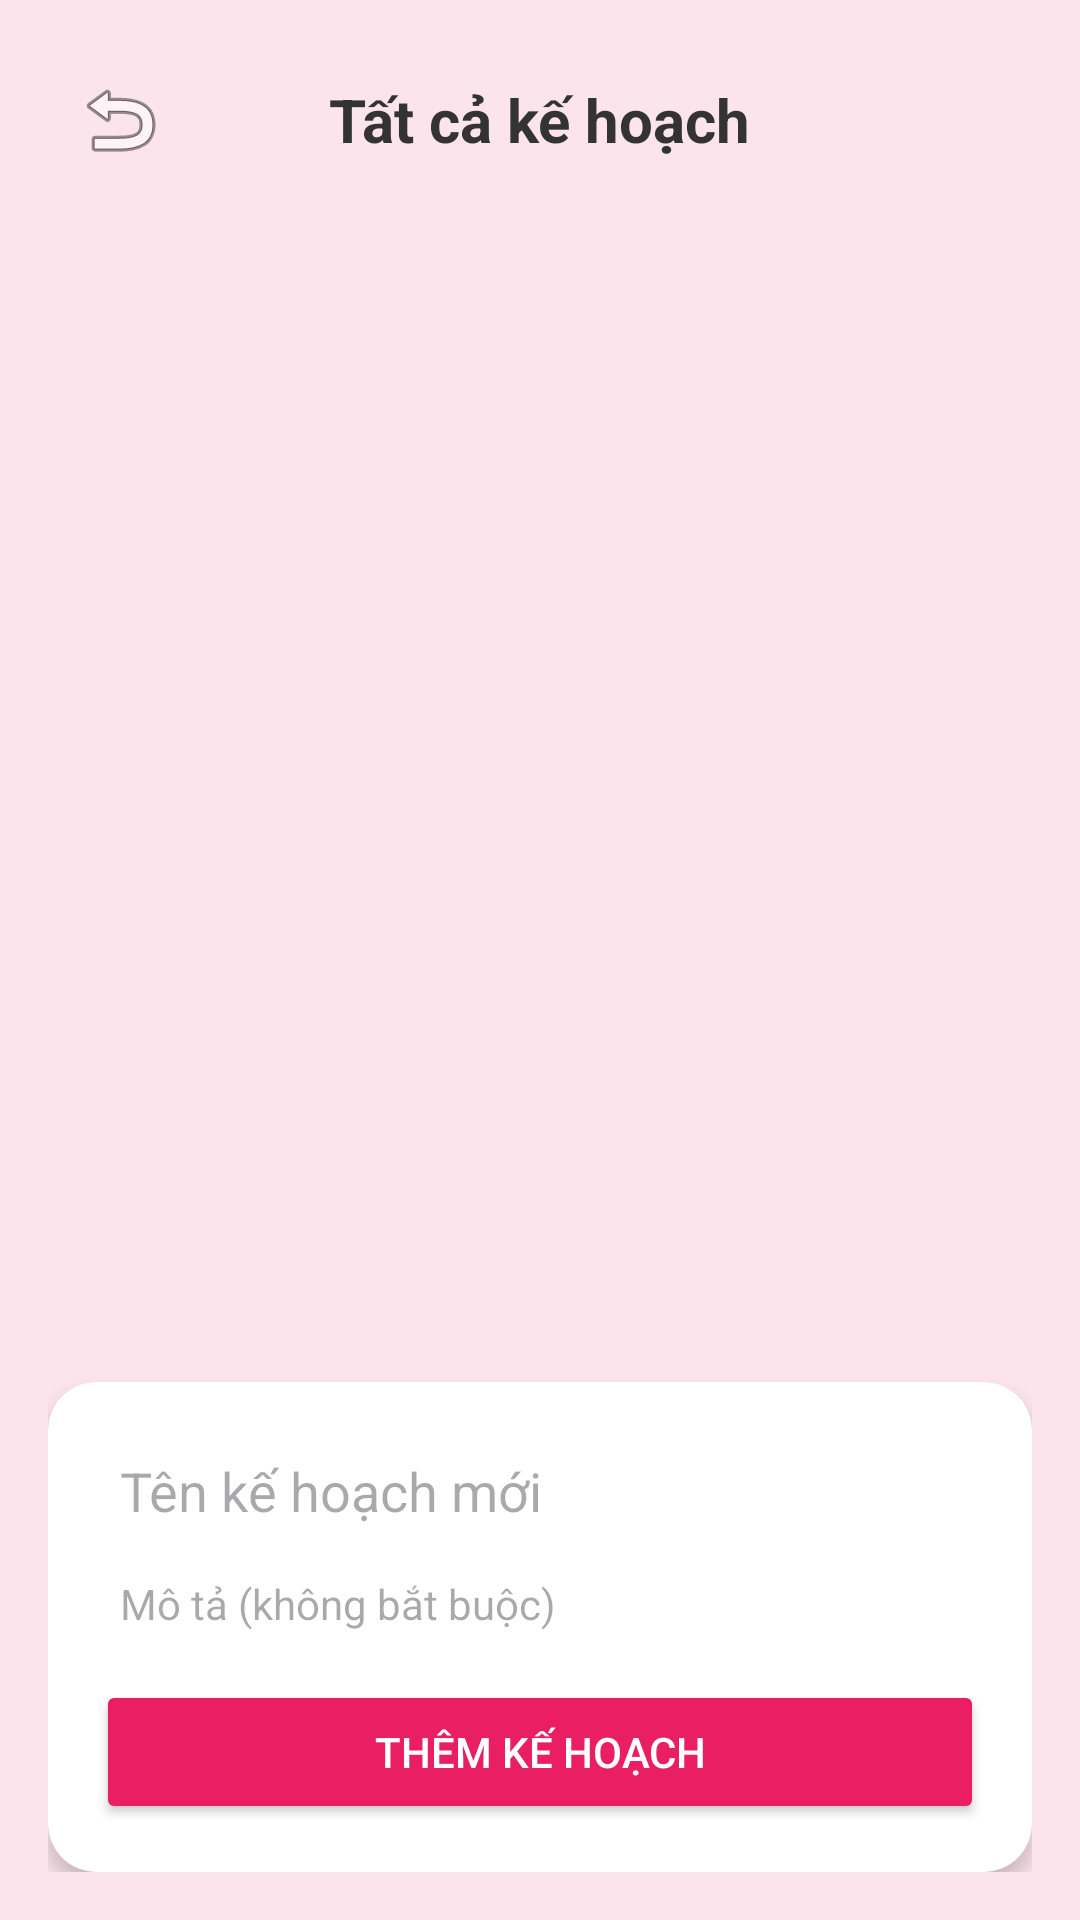

Named icons in this screenshot (1080px×1920px) and their centers, (x,y):
Quay lại: (121,120)
